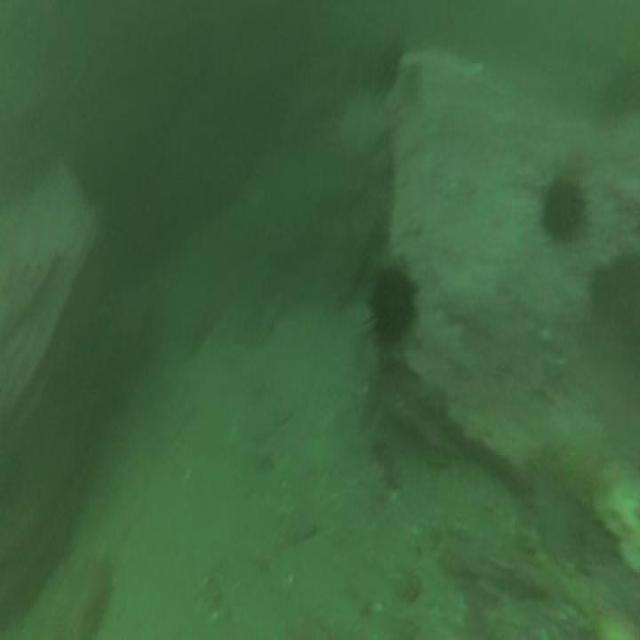echinus: (366, 260, 420, 348), (538, 169, 593, 251), (375, 39, 405, 98)
